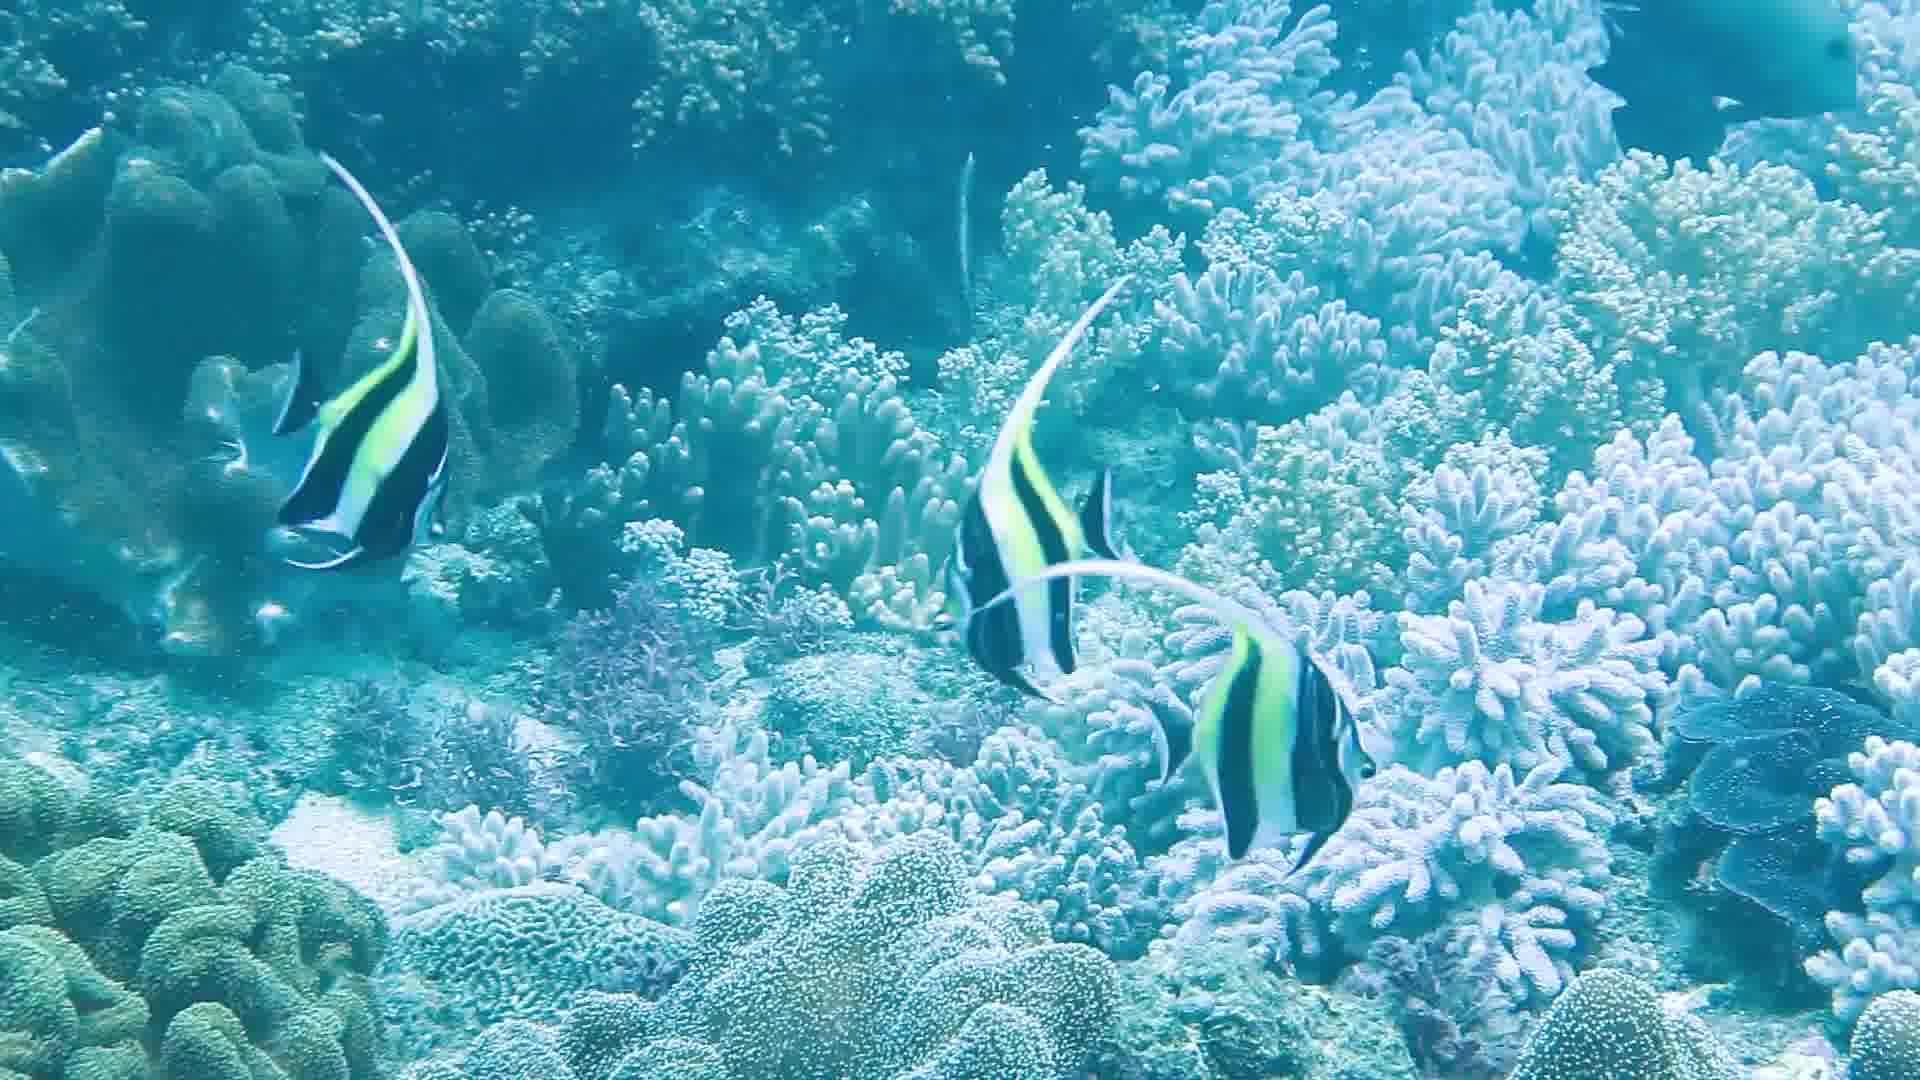Zanclus cornutus: (1145, 597, 1396, 869), (262, 299, 469, 584), (906, 426, 1118, 684)
